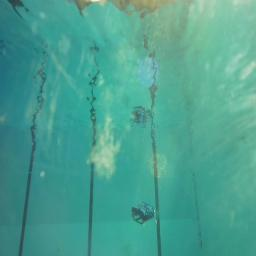front: (131, 202, 153, 225)
